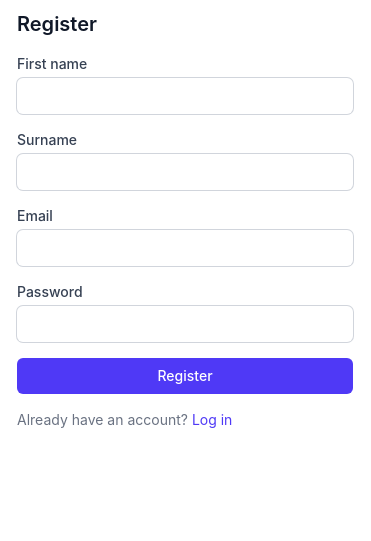
Test: RegisterPage › shows inline validation errors for missing required fields (FR-1)
Click the button "Register" at (185, 376), box [17, 358, 353, 394]
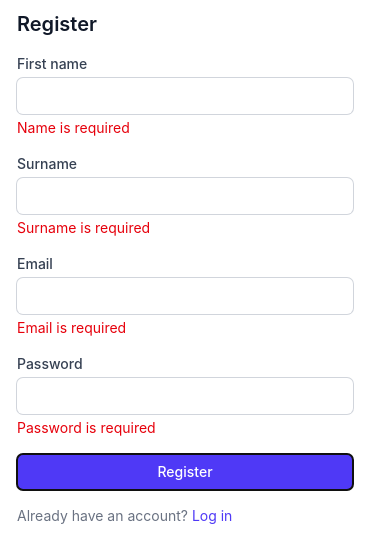
expect the text "Name is required" is shown: met, box [17, 119, 130, 136]
expect the text "Surname is required" is shown: met, box [17, 219, 150, 236]
expect the text "Email is required" is shown: met, box [17, 319, 126, 336]
